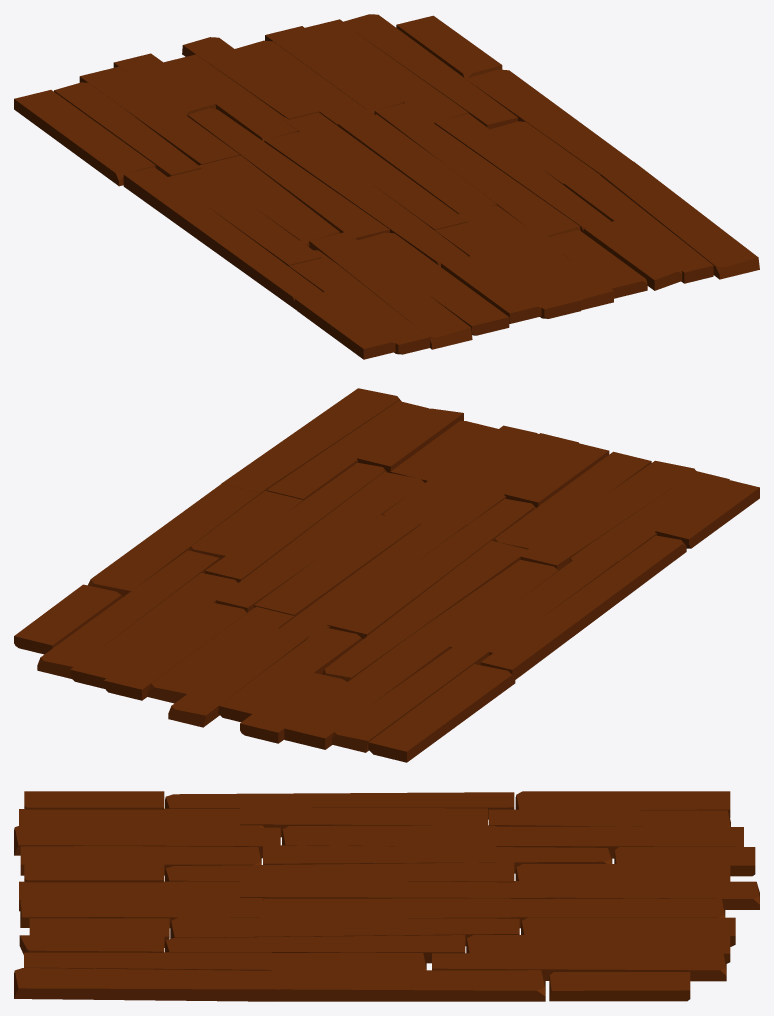
The model's file is floor.gltf.
3 renders of one model, top to bottom at view 1: azimuth 30°, elevation 25°; view 2: azimuth 150°, elevation 25°; view 3: azimuth 270°, elevation 25°, orthographic. The views are drawn at different scales.
Visible parts, largest first — view 1: floor plane.090, floor plane.065, floor plane.074, floor plane.078, floor plane.084, floor plane.049, floor plane.059, floor plane.085, floor plane.075, floor plane.061, floor plane.051, floor plane.079 (+22 smaller); view 2: floor plane.090, floor plane.065, floor plane.074, floor plane.078, floor plane.059, floor plane.079, floor plane.085, floor plane.084, floor plane.051, floor plane.049, floor plane.075, floor plane.061 (+22 smaller); view 3: floor plane.059, floor plane.049, floor plane.065, floor plane.078, floor plane.074, floor plane.051, floor plane.084, floor plane.075, floor plane.090, floor plane.079, floor plane.055, floor plane.061 (+22 smaller).
Part boxes in pixels (x1,y1,x2,y2): floor plane.090: [123, 167, 322, 310]; floor plane.065: [374, 103, 580, 238]; floor plane.074: [264, 130, 468, 266]; floor plane.078: [187, 108, 389, 240]; floor plane.084: [309, 232, 472, 349]; floor plane.049: [597, 161, 759, 279]; floor plane.059: [466, 69, 641, 177]; floor plane.085: [14, 90, 155, 186]; floor plane.075: [281, 112, 468, 230]; floor plane.061: [338, 114, 496, 213]; floor plane.051: [342, 14, 517, 129]; floor plane.079: [79, 66, 239, 165]; floor plane.090: [480, 535, 686, 679]; floor plane.065: [216, 472, 424, 612]; floor plane.074: [327, 498, 535, 638]; floor plane.078: [322, 540, 529, 681]; floor plane.059: [87, 477, 268, 596]; floor plane.079: [284, 636, 450, 749]; floor plane.085: [368, 664, 515, 762]; floor plane.084: [519, 460, 695, 570]; floor plane.051: [37, 550, 219, 678]; floor plane.049: [221, 388, 401, 492]; floor plane.075: [279, 515, 467, 640]; floor plane.061: [254, 514, 419, 616]; floor plane.059: [263, 970, 545, 1001]; floor plane.049: [14, 968, 280, 1001]; floor plane.065: [170, 917, 519, 946]; floor plane.078: [263, 845, 612, 873]; floor plane.074: [165, 862, 514, 882]; floor plane.051: [432, 952, 726, 981]; floor plane.084: [14, 824, 280, 858]; floor plane.075: [240, 880, 553, 898]; floor plane.090: [165, 792, 514, 819]; floor plane.079: [496, 826, 743, 858]; floor plane.055: [165, 935, 465, 963]; floor plane.061: [263, 898, 510, 918].
Bounding box in the file's own units: 4.9 × 0.1587 × 7.74.
